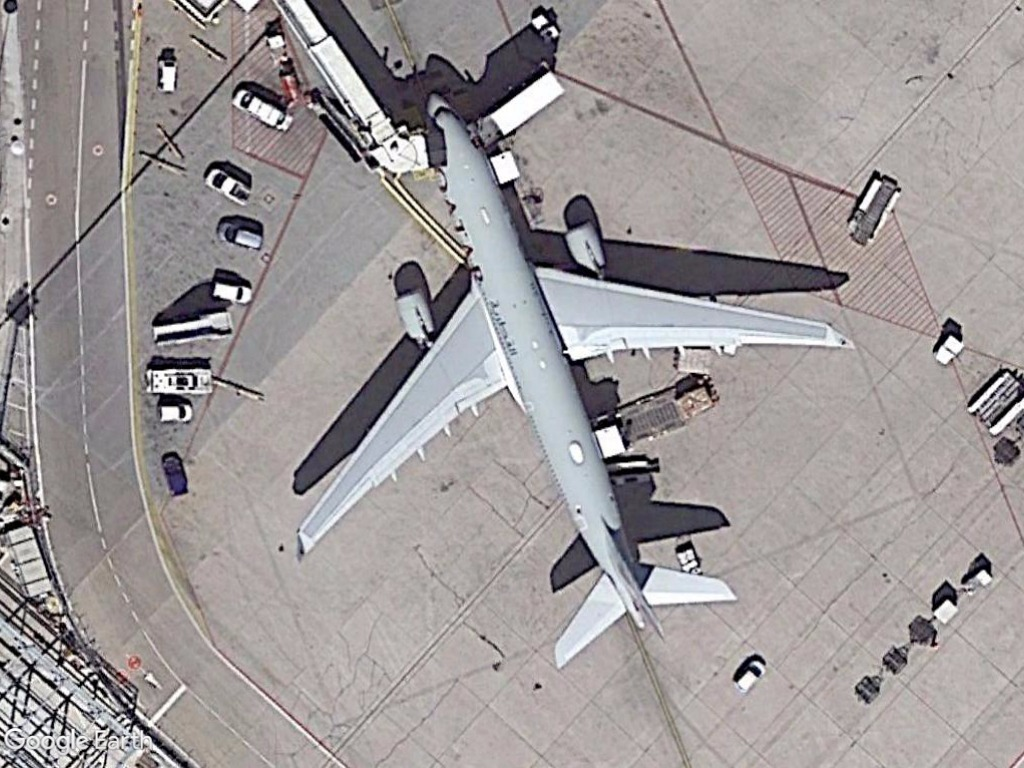airliner: (281, 73, 854, 710)
car: (227, 83, 294, 132), (201, 162, 257, 205), (729, 649, 776, 696), (213, 218, 269, 252), (210, 275, 255, 309), (155, 401, 199, 426)
pushbacktruck: (842, 176, 909, 248)
